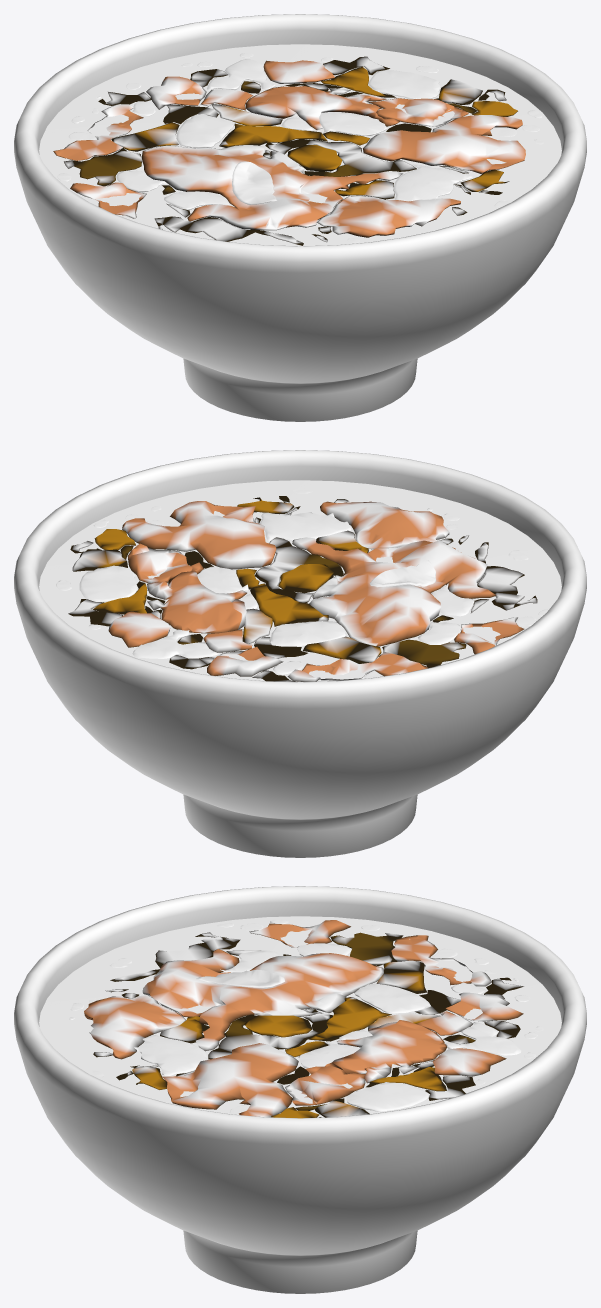
Rendered from SM_D20_spicy.fbx.
3 views of the same model, one above another, from view 1: azimuth 30°, elevation 25°; view 2: azimuth 150°, elevation 25°; view 3: azimuth 270°, elevation 25° (orthographic).
Visible parts, largest first — view 1: SM_D20_spicy; view 2: SM_D20_spicy; view 3: SM_D20_spicy.
Boxes of the visible parts, x1,y1,x2,y2 form: SM_D20_spicy: [14, 14, 586, 421]; SM_D20_spicy: [14, 450, 586, 857]; SM_D20_spicy: [14, 886, 586, 1293].
Bounding box in the file's own units: 0.17 × 0.08 × 0.17.
